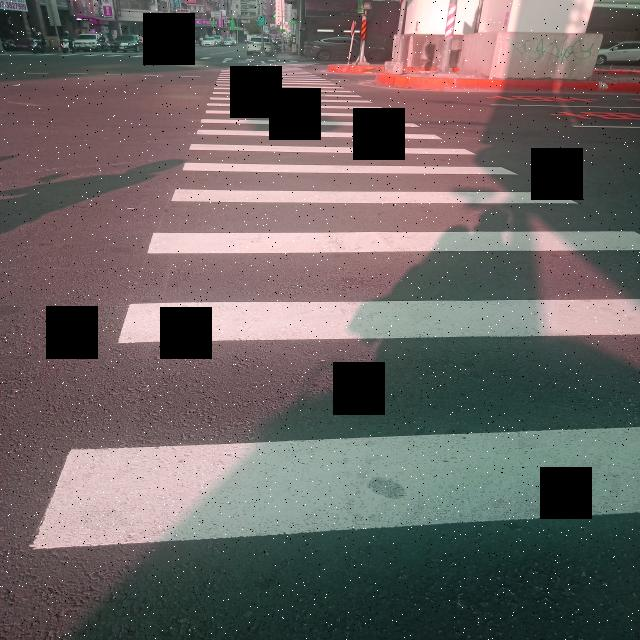zebra_crossing: (32, 63, 640, 557), (7, 53, 298, 63), (221, 61, 324, 79)
